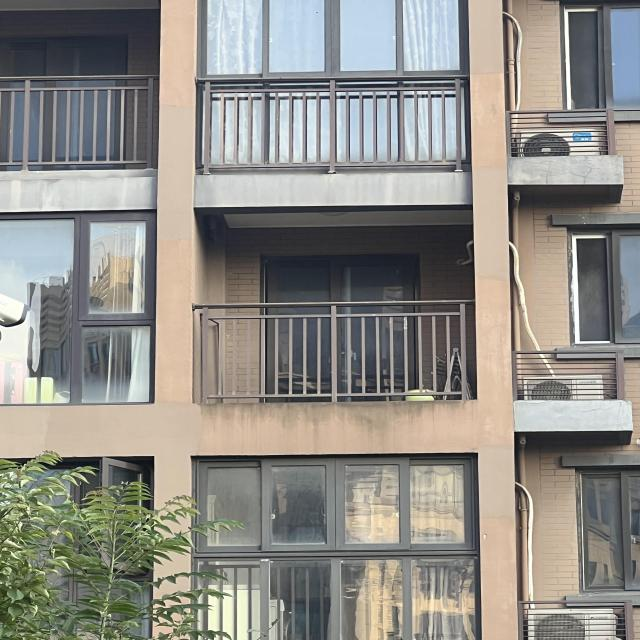damp: (189, 405, 497, 448)
